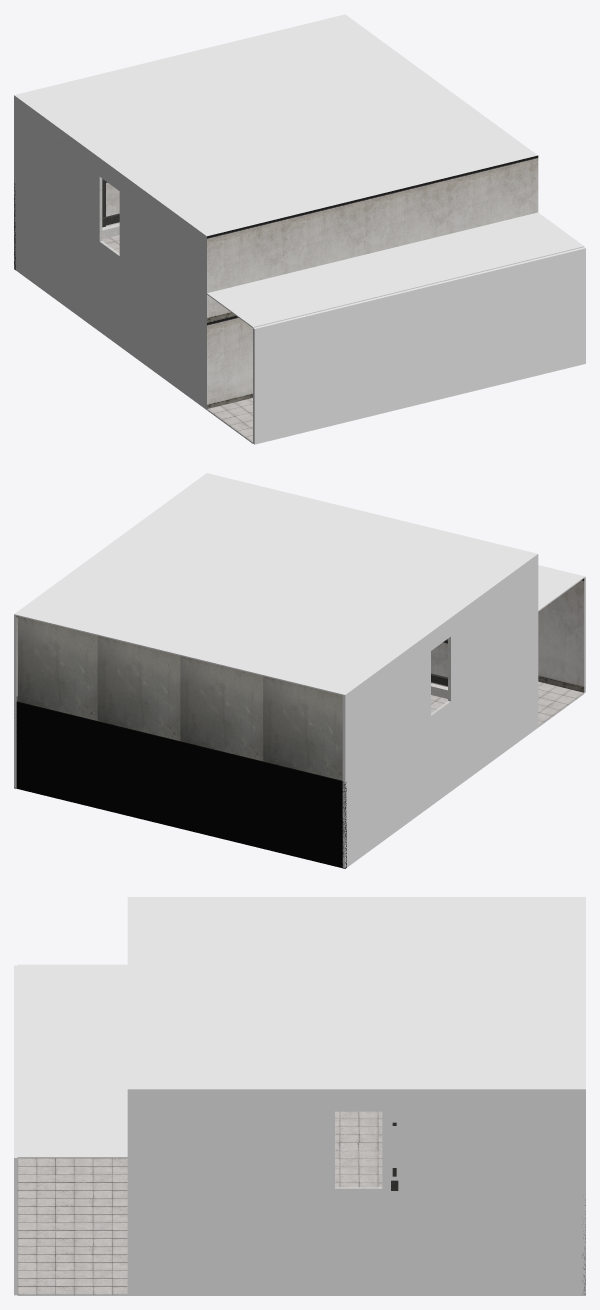
File: Intro_2.fbx
3 views of the same model, one above another, from view 1: azimuth 30°, elevation 25°; view 2: azimuth 150°, elevation 25°; view 3: azimuth 270°, elevation 25° (orthographic). The views are drawn at different scales.
Visible parts, largest first — view 1: node_id18, node_id45, node_id21, node_id51 (×2), node_id48, node_id42, node_id25; view 2: node_id18, node_id21, node_id195, node_id198, node_id45, node_id51 (×2), node_id25, node_id48, node_id42; view 3: node_id25, node_id18, node_id48, node_id42, node_id29 (×2), node_id51, node_id45, node_id15, node_id21.
Boxes of the visible parts, x1,y1,x2,y2 form: node_id18: [17, 15, 531, 233]; node_id45: [253, 247, 585, 444]; node_id21: [14, 94, 205, 406]; node_id51 (×2): [203, 153, 538, 409]; node_id48: [207, 212, 584, 327]; node_id42: [207, 398, 252, 442]; node_id25: [343, 14, 534, 153]; node_id18: [16, 476, 531, 695]; node_id21: [342, 555, 536, 868]; node_id195: [14, 701, 346, 868]; node_id198: [17, 616, 342, 780]; node_id45: [538, 578, 584, 692]; node_id51 (×2): [204, 473, 538, 729]; node_id25: [14, 475, 205, 787]; node_id48: [538, 566, 584, 611]; node_id42: [538, 681, 583, 725]; node_id25: [131, 1087, 585, 1294]; node_id18: [131, 898, 585, 1090]; node_id48: [17, 964, 131, 1158]; node_id42: [17, 1158, 127, 1294]; node_id29 (×2): [321, 1111, 396, 1197]; node_id51: [127, 897, 135, 1294]; node_id45: [14, 965, 17, 1295]; node_id15: [131, 1294, 585, 1295]; node_id21: [135, 897, 585, 898].
Bounding box in the file's own units: 0.512 × 0.2569 × 0.6443.
137 materials, 81 textured.
